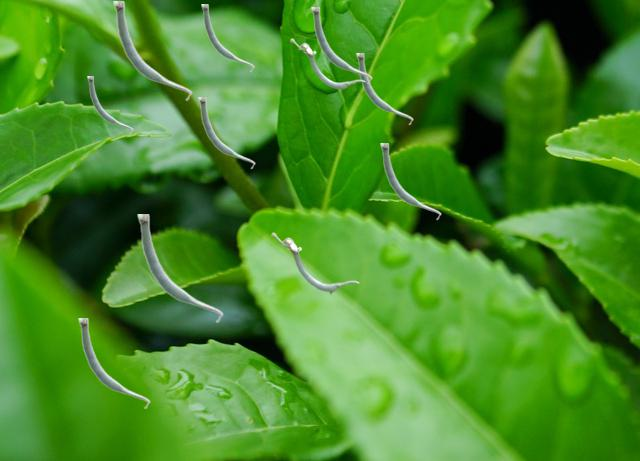french_bean: (137, 214, 222, 322), (113, 1, 191, 100), (78, 318, 149, 408), (271, 232, 358, 293), (311, 7, 371, 83), (380, 143, 440, 219), (198, 97, 254, 168), (356, 53, 412, 124), (290, 38, 364, 90), (201, 4, 253, 71), (87, 76, 132, 133)
